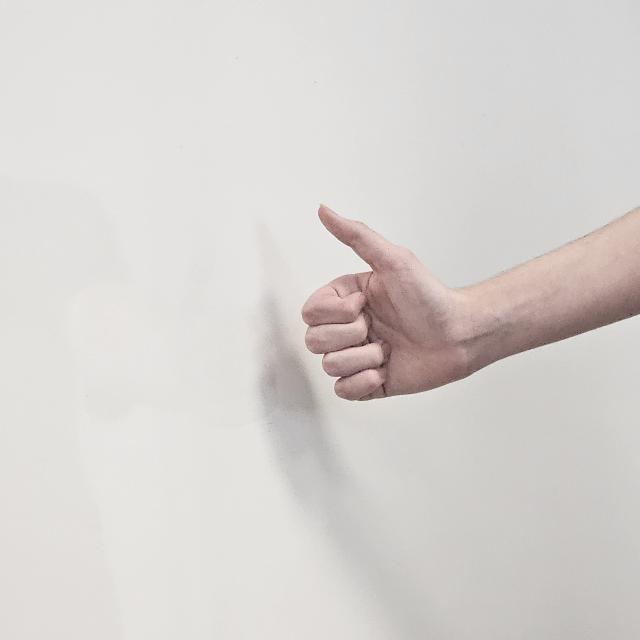Start: (299, 202, 481, 422)
